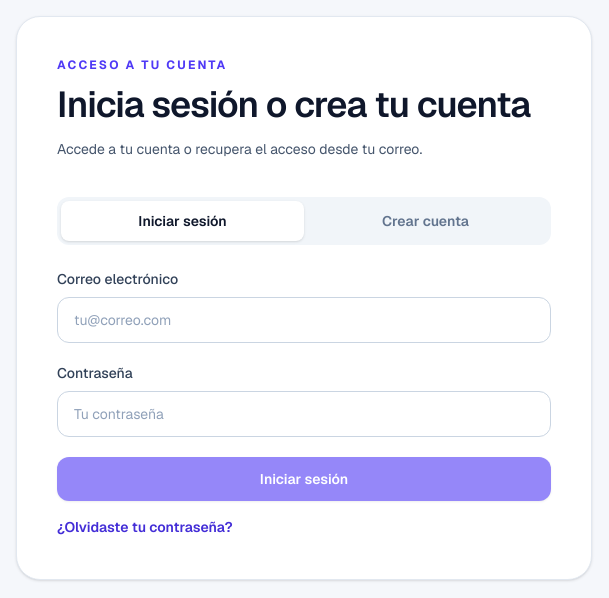
Test case: password recovery interface › requests recovery with email only and shows an account-neutral result
Click the button "¿Olvidaste tu contraseña?" at x=145, y=527, box [57,517,233,537]
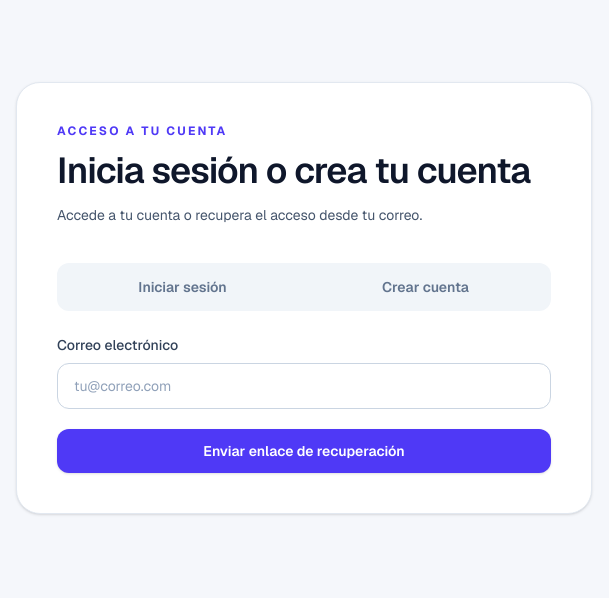
Check: the button "Enviar enlace de recuperación" is enabled, box [57,429,551,473]
Check: the text labelled "Contraseña" is gone
Type "account@example.test" into the field labelled "Correo electrónico" at x=304, y=386, box [57,363,551,409]
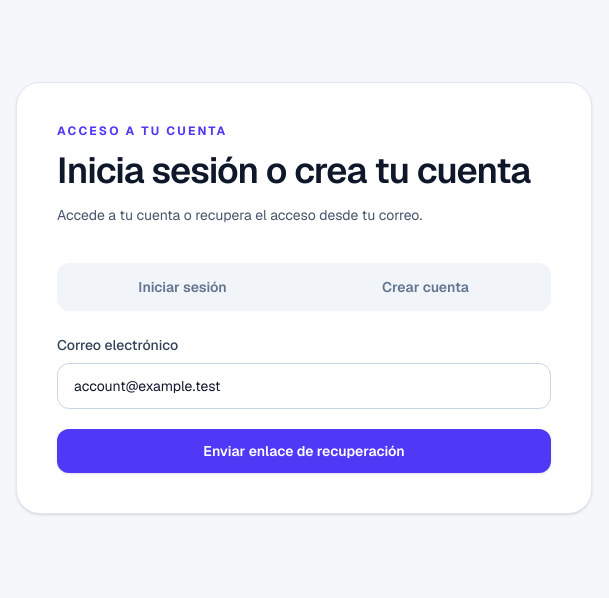
Click the button "Enviar enlace de recuperación" at x=304, y=451, box [57,429,551,473]
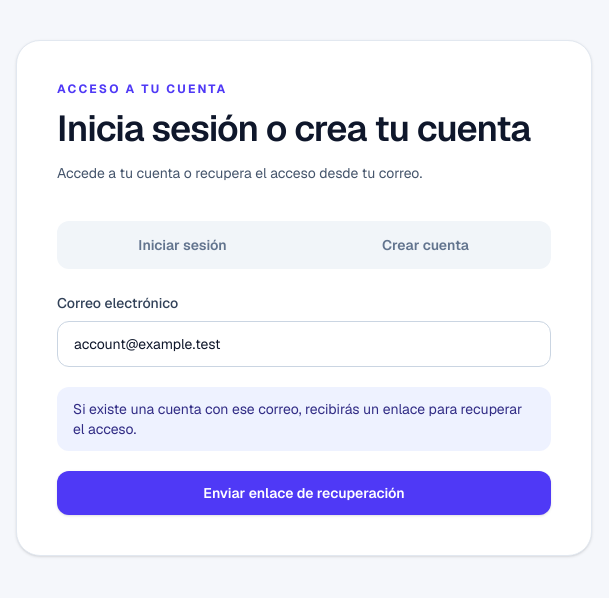
Check: the message shows "Si existe una cuenta con ese correo", box [73,400,522,438]
